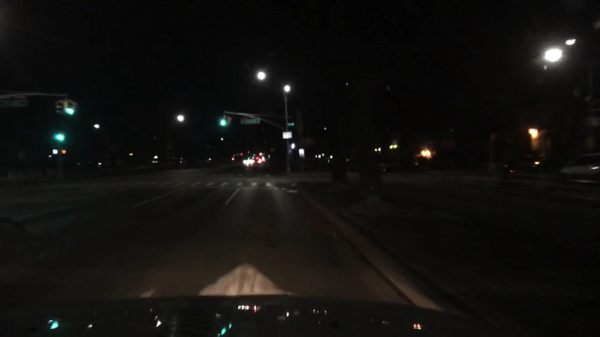car: (502, 151, 565, 178), (559, 153, 600, 178), (241, 157, 257, 167)
traffic light: (66, 101, 75, 117), (55, 100, 63, 117), (55, 131, 63, 144), (220, 115, 226, 128), (289, 142, 295, 151), (227, 115, 231, 127), (52, 149, 59, 155), (60, 148, 66, 155)
traffic sign: (0, 99, 27, 110), (239, 117, 260, 125), (282, 132, 292, 140), (286, 121, 296, 127)
